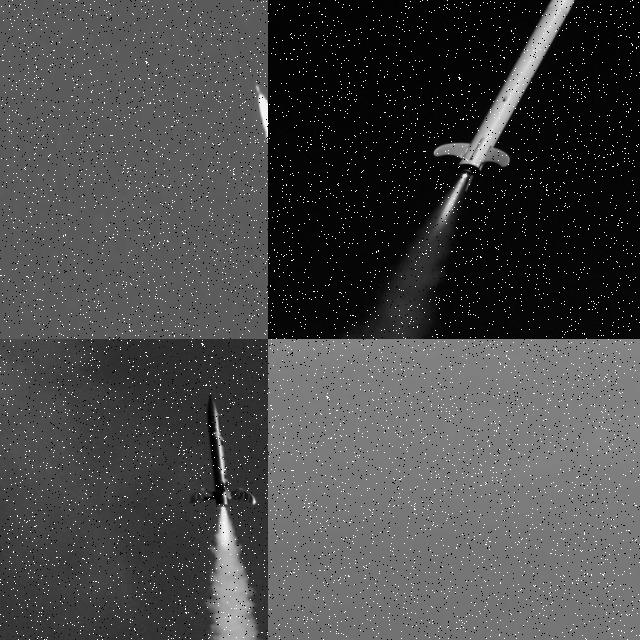Rocket: (433, 0, 586, 193), (188, 394, 258, 511), (255, 82, 262, 96)
